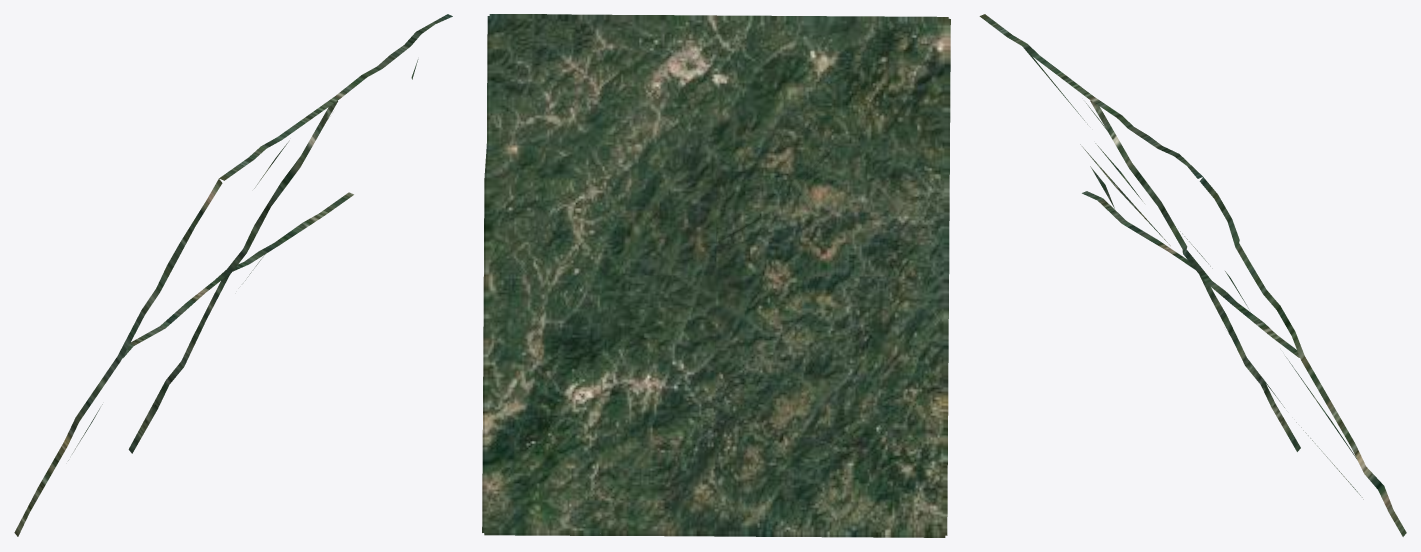
3 renders of one model, left to right at view 1: azimuth 30°, elevation 25°; view 2: azimuth 150°, elevation 25°; view 3: azimuth 270°, elevation 25°, orthographic. The views are drawn at different scales.
Bounding box in the file's own units: 79061 × 70414 × 66722.
Materials: 1 (1 with a texture image).
